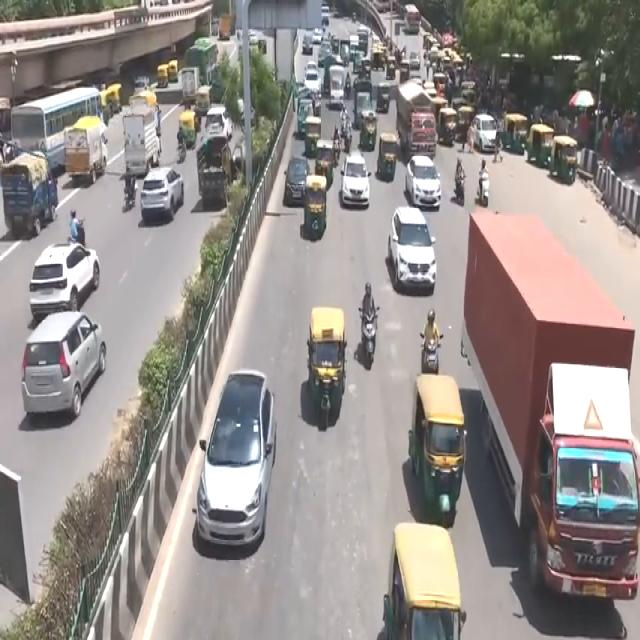BUS: (13, 89, 109, 188), (404, 100, 438, 160)
MOTORCYCLE: (361, 313, 377, 372)
TRUCK: (465, 216, 639, 622), (0, 154, 57, 242)
